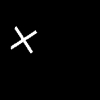single_crochet: (11, 27, 36, 52)
